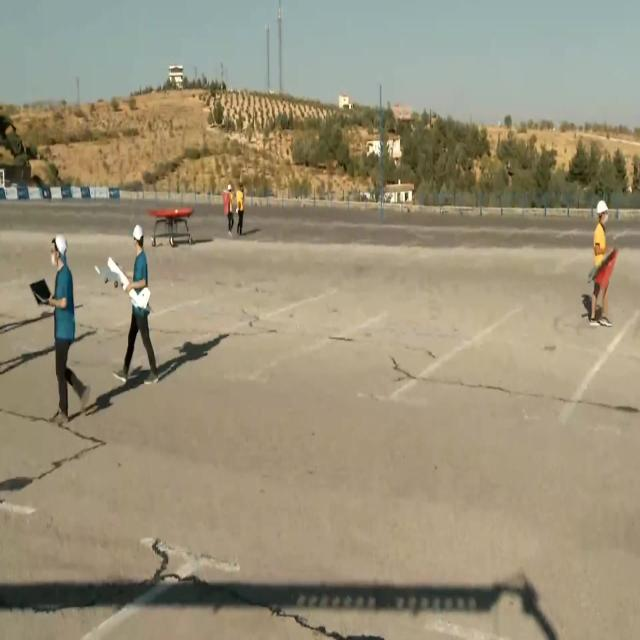iha: (30, 258, 91, 314)
